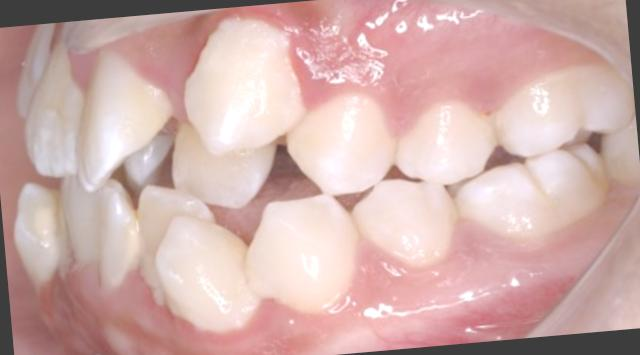canine class II 1/4: (133, 8, 364, 350)
molar class III 1/2: (444, 63, 640, 263)
